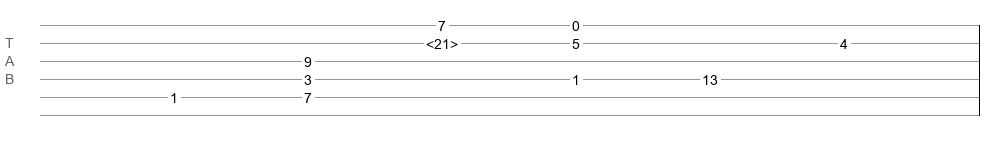0: (572, 18, 580, 28)
1: (170, 90, 178, 100), (572, 72, 580, 82)
13: (702, 72, 718, 82)
3: (304, 72, 312, 82)
4: (840, 36, 848, 46)
5: (572, 36, 580, 46)
7: (304, 90, 312, 100), (438, 18, 446, 28)
9: (304, 54, 312, 64)
harmonic: (426, 36, 458, 46)
